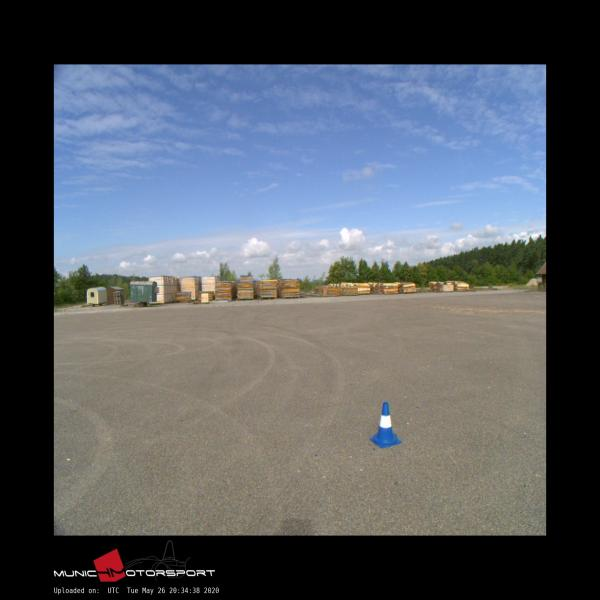blue_cone: (370, 403, 402, 447)
